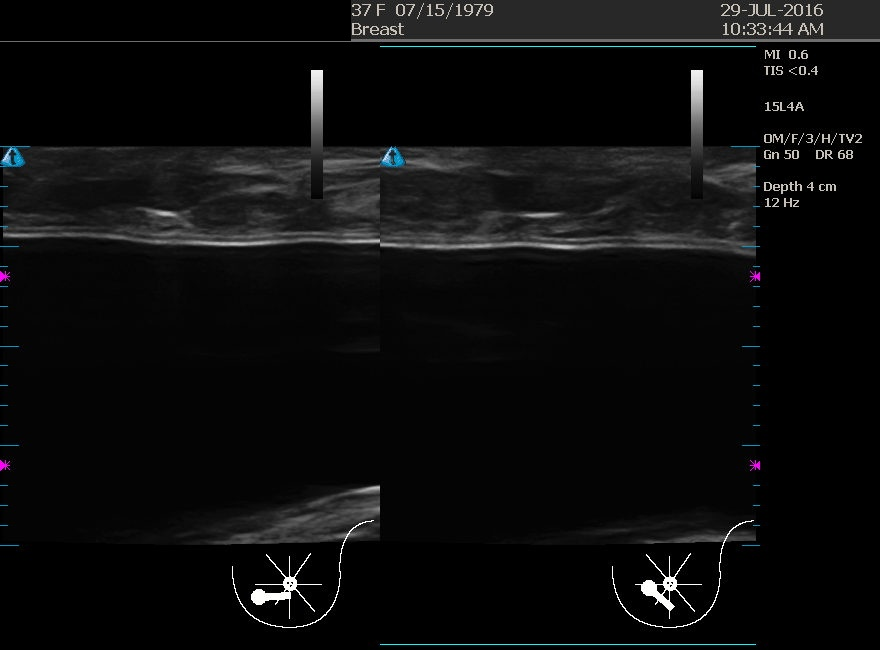Benign: (66, 147, 266, 347), (457, 150, 657, 350)
